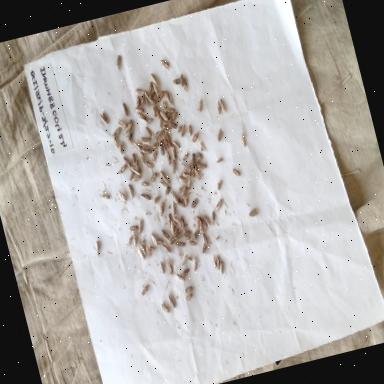pbw: (192, 96, 206, 114), (112, 52, 124, 72), (176, 215, 188, 234), (138, 282, 152, 298), (92, 238, 103, 258), (116, 186, 128, 204), (142, 87, 154, 105), (166, 291, 177, 310), (218, 97, 229, 116), (177, 250, 190, 266), (168, 189, 180, 206), (98, 110, 110, 127), (116, 138, 127, 156), (159, 57, 171, 73), (159, 300, 171, 316), (186, 156, 198, 172), (180, 160, 192, 176), (164, 88, 174, 107), (126, 181, 136, 200), (207, 208, 218, 225), (246, 206, 260, 219), (138, 190, 151, 204), (122, 120, 135, 134), (144, 123, 154, 141), (120, 100, 130, 118), (170, 142, 179, 162), (238, 130, 248, 148), (156, 201, 168, 216), (156, 139, 166, 157), (184, 174, 194, 192), (169, 158, 179, 176), (214, 176, 225, 192), (160, 226, 171, 242), (158, 108, 169, 124), (190, 256, 200, 273), (136, 218, 146, 235), (214, 198, 226, 212), (122, 235, 134, 249), (166, 118, 178, 132), (130, 164, 142, 178), (116, 116, 128, 130), (188, 196, 200, 210), (193, 166, 202, 184), (164, 256, 173, 274), (164, 131, 173, 149), (178, 122, 188, 138), (150, 72, 160, 88), (160, 134, 170, 150), (122, 155, 132, 171), (138, 242, 148, 258), (202, 212, 212, 228), (132, 138, 142, 154), (136, 246, 146, 262), (150, 193, 162, 206), (173, 238, 186, 250), (163, 104, 176, 116), (183, 292, 195, 305), (196, 162, 209, 174), (160, 174, 172, 187), (98, 191, 110, 204), (149, 170, 160, 184), (161, 242, 172, 256), (214, 154, 225, 168), (231, 166, 242, 180), (167, 219, 176, 236), (130, 230, 138, 249), (136, 110, 148, 122), (133, 104, 145, 116), (217, 260, 226, 276), (180, 266, 192, 278), (110, 132, 118, 150), (170, 227, 182, 239), (160, 98, 168, 116), (186, 122, 195, 138), (186, 237, 198, 249), (149, 140, 161, 152), (112, 125, 123, 138), (134, 160, 144, 174), (199, 242, 209, 256), (124, 134, 134, 148), (200, 232, 210, 246), (172, 137, 182, 151), (164, 149, 172, 166), (150, 231, 158, 248), (154, 104, 162, 121), (190, 132, 201, 144), (193, 151, 204, 163), (149, 150, 160, 162), (183, 282, 194, 294), (162, 186, 174, 197), (176, 271, 186, 284), (126, 170, 136, 183), (156, 88, 166, 101), (152, 83, 160, 99), (210, 254, 218, 270), (139, 150, 147, 166), (198, 218, 206, 234), (144, 241, 152, 257), (158, 260, 166, 276), (170, 200, 178, 216), (214, 254, 222, 270), (214, 100, 222, 116), (133, 95, 142, 109), (159, 168, 168, 182), (117, 163, 128, 174), (146, 89, 157, 100), (147, 96, 158, 107), (129, 151, 137, 166), (180, 150, 190, 162), (180, 169, 192, 179), (144, 158, 154, 170), (150, 104, 158, 119), (176, 186, 188, 196), (178, 72, 186, 87), (178, 174, 188, 186), (166, 212, 174, 227), (170, 110, 180, 122), (192, 228, 202, 240), (130, 174, 142, 184), (161, 122, 173, 132), (182, 194, 190, 209), (127, 223, 139, 233), (158, 118, 166, 132), (181, 78, 189, 92), (146, 80, 154, 94), (198, 140, 206, 154), (154, 237, 164, 248), (139, 136, 150, 146), (171, 76, 182, 86), (144, 115, 154, 126), (142, 146, 153, 156), (158, 179, 167, 191), (153, 129, 162, 141), (200, 215, 207, 230), (142, 96, 150, 109), (172, 213, 180, 226), (140, 178, 150, 188), (182, 228, 192, 238), (194, 214, 201, 227), (167, 236, 176, 246), (178, 199, 186, 210), (148, 243, 156, 254), (176, 230, 184, 240), (134, 86, 144, 94), (184, 255, 193, 263), (168, 269, 176, 278)
